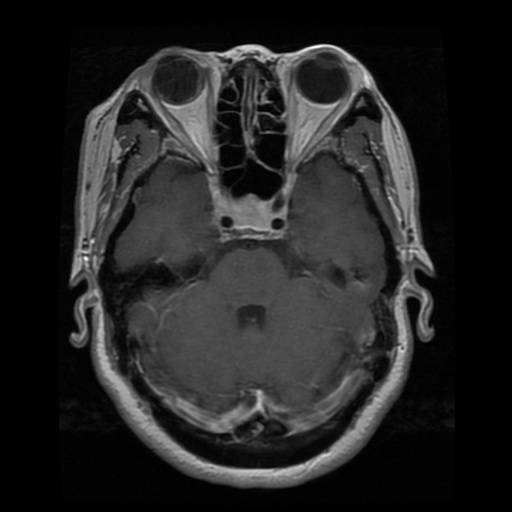pituitary: (216, 191, 273, 228)
